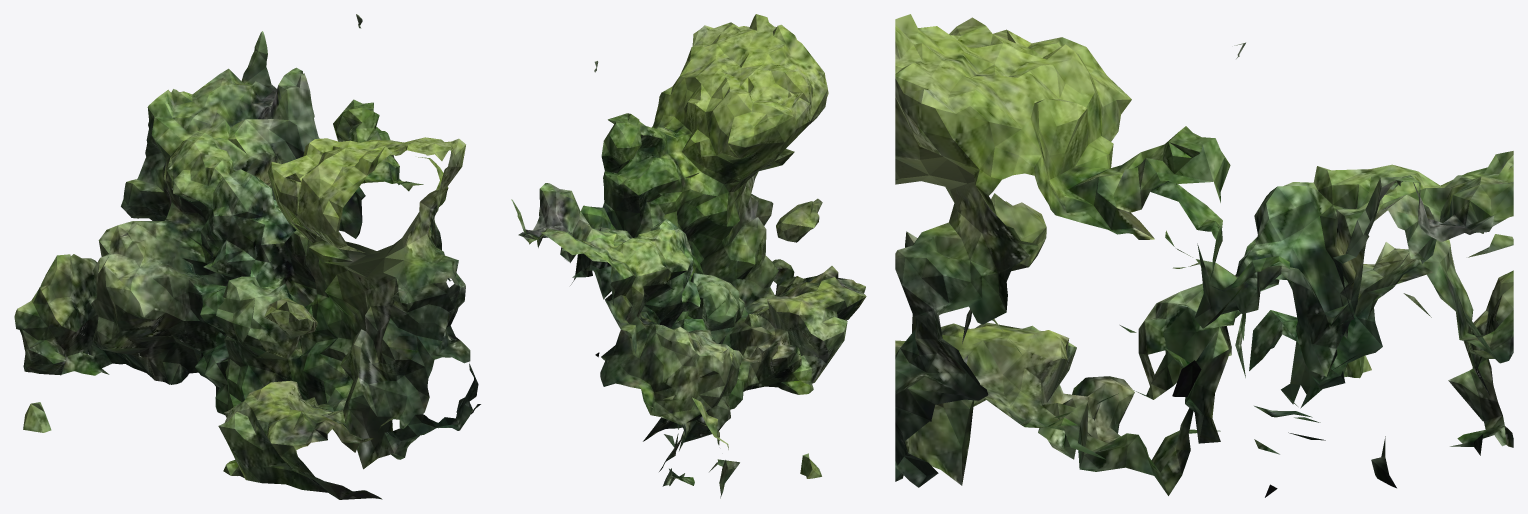
3 views of the same model, side by side, from view 1: azimuth 30°, elevation 25°; view 2: azimuth 150°, elevation 25°; view 3: azimuth 270°, elevation 25° (orthographic). The views are drawn at different scales.
Size of the model in its own units: 20.45 by 24.43 by 26.11.
5 materials, 5 textured.
